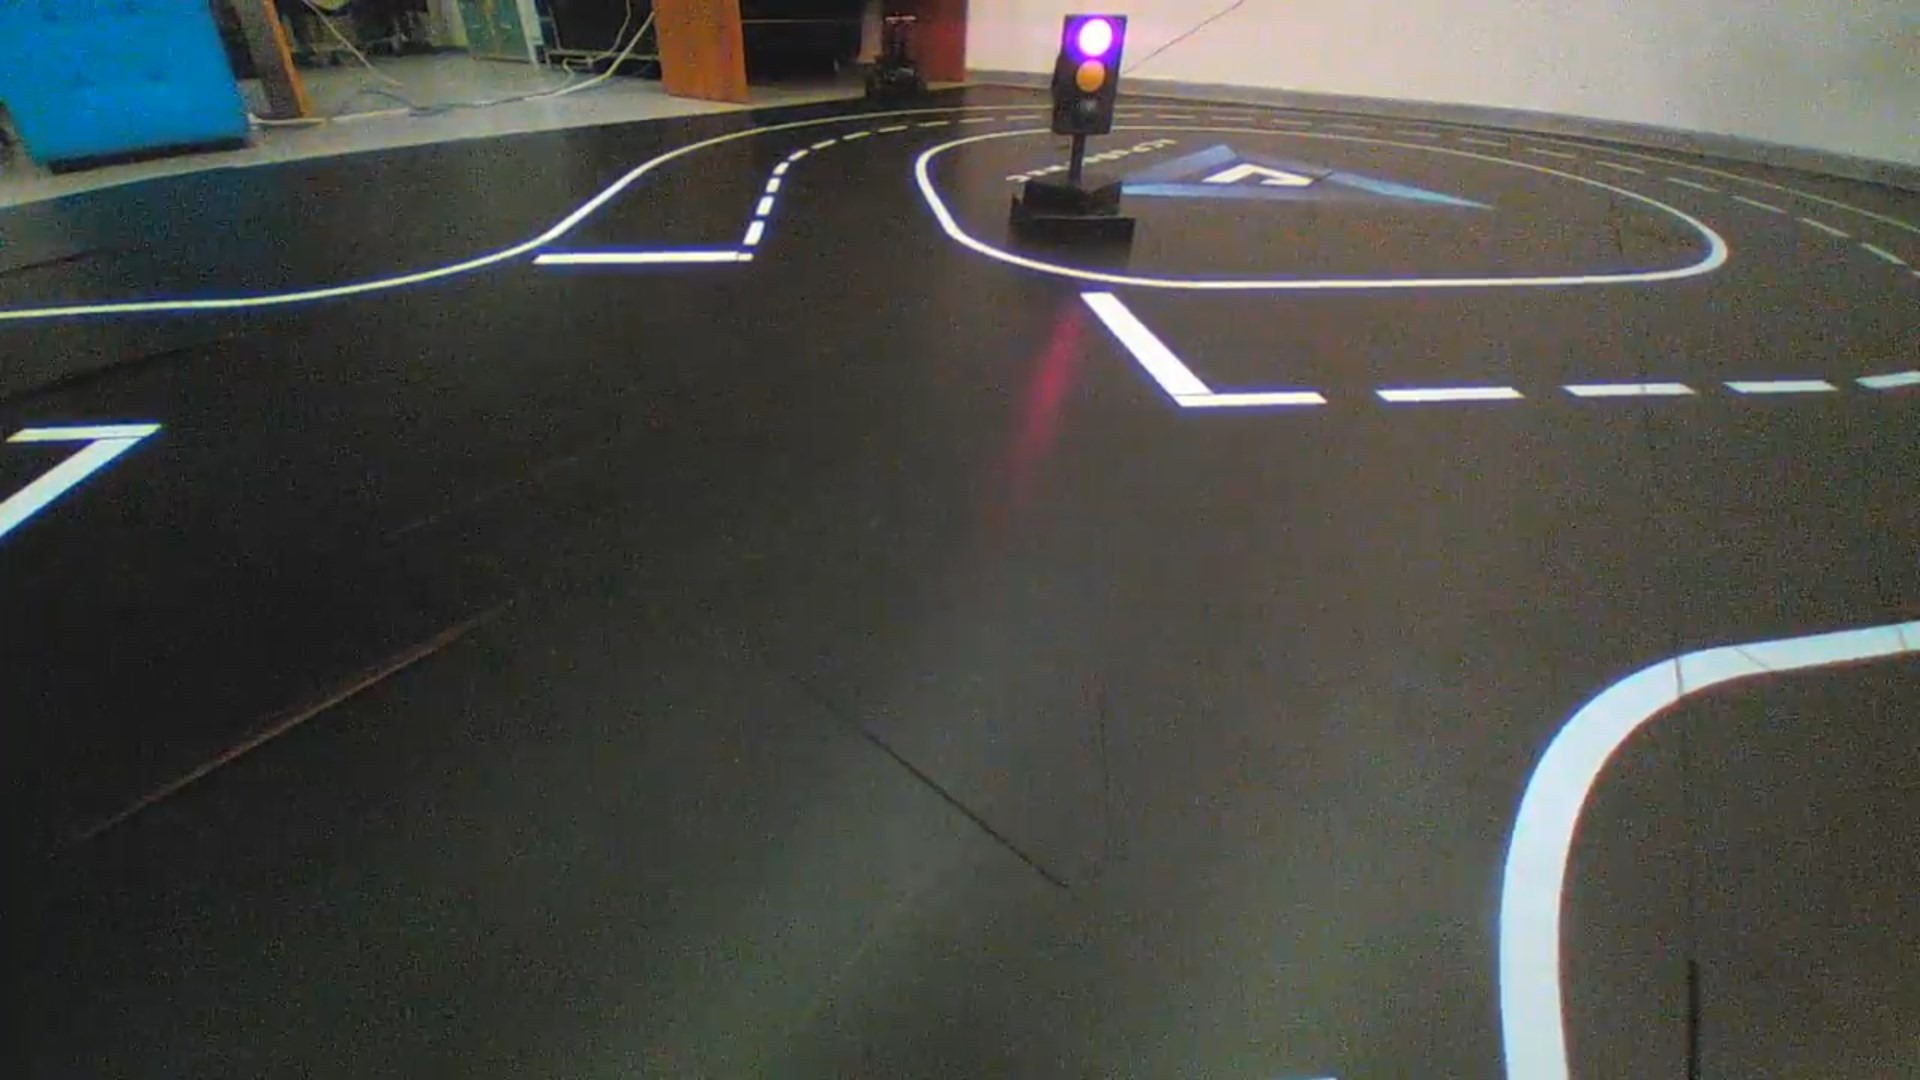trafficlight: (1050, 13, 1127, 136)
